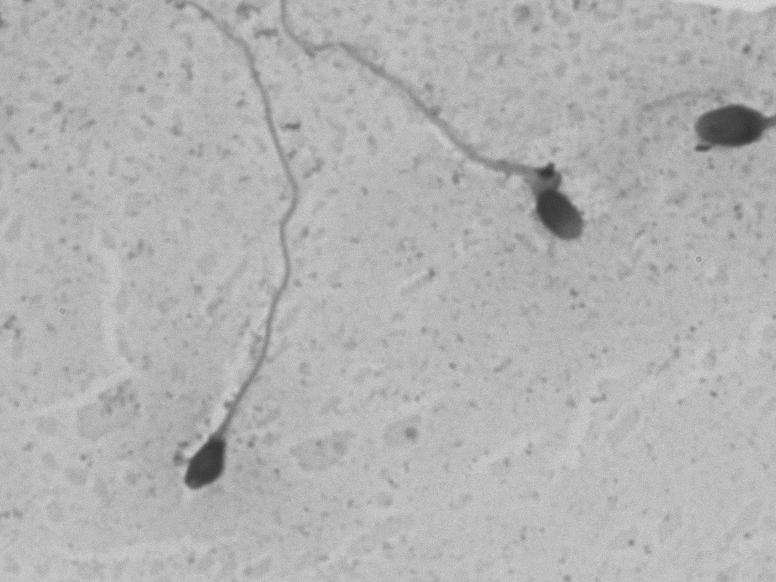Abnormal: (145, 86, 315, 509), (379, 36, 613, 280)
